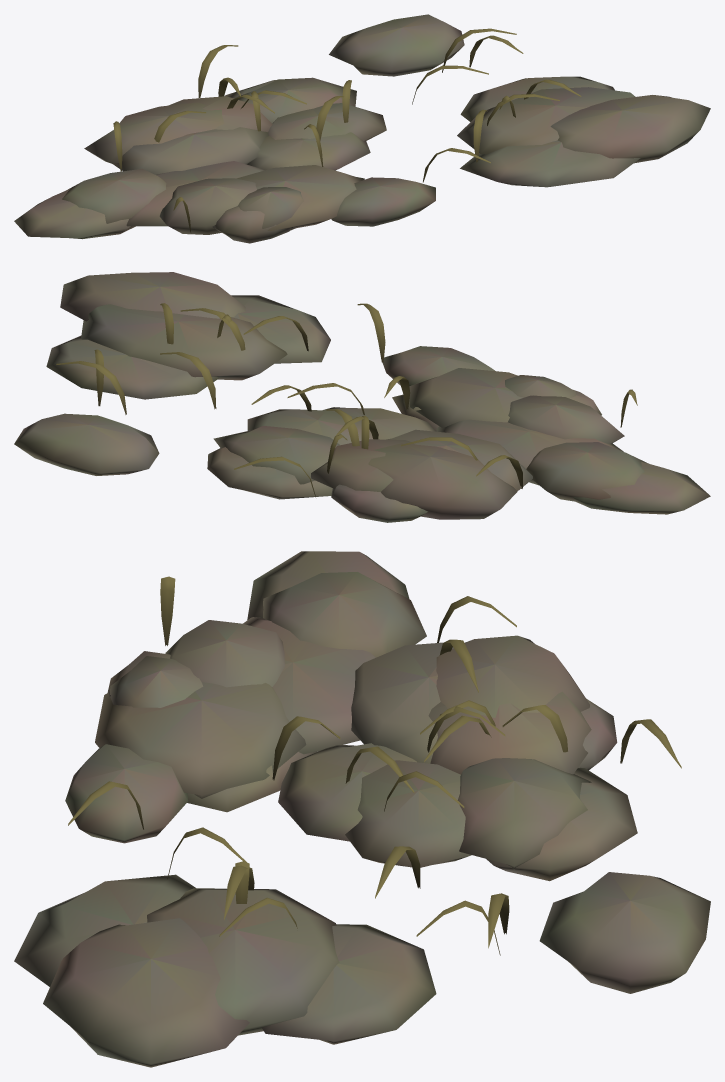
The model's file is erosion-join.glb.
The picture shows the model from 3 angles, top to bottom: view 1: azimuth 30°, elevation 25°; view 2: azimuth 150°, elevation 25°; view 3: azimuth 270°, elevation 25°; orthographic projection. The views are drawn at different scales.
Parts seen in each view (by area): view 1: LAND03 erosion-join; view 2: LAND03 erosion-join; view 3: LAND03 erosion-join.
Part boxes in pixels (x1,y1,x2,y2): LAND03 erosion-join: (14, 14, 710, 243); LAND03 erosion-join: (14, 272, 710, 522); LAND03 erosion-join: (14, 551, 710, 1067).
Bounding box in the file's own units: 2.36 × 0.193 × 1.33.
